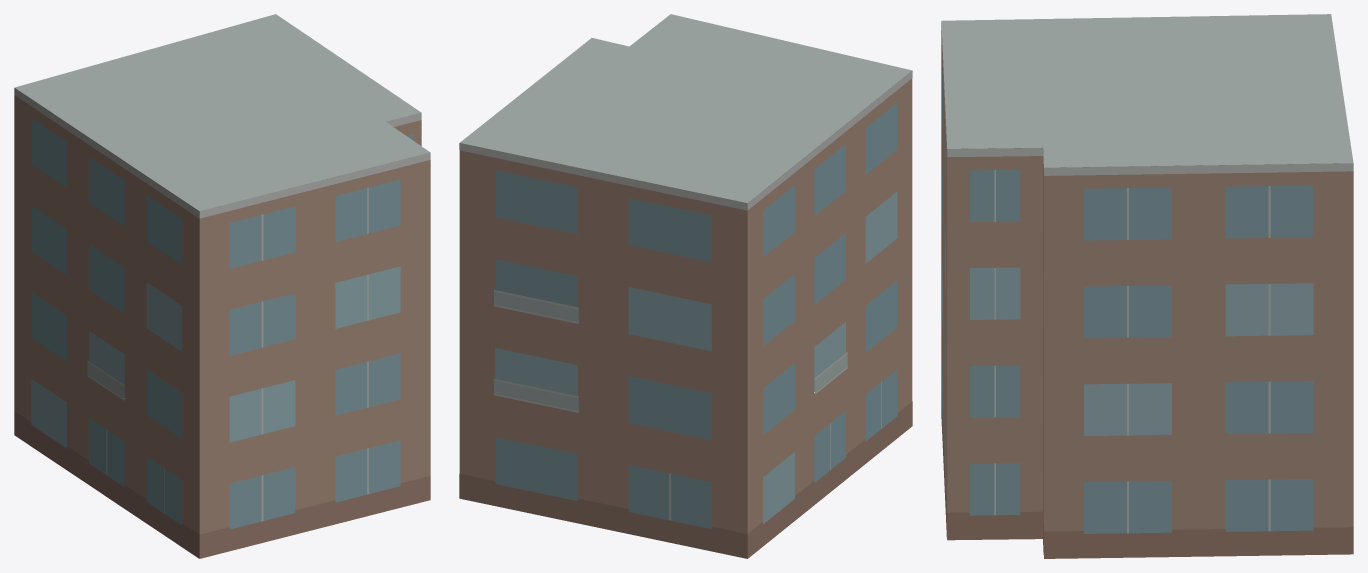
The model's file is survey-upis-32672369.glb.
The picture shows the model from 3 angles, left to right: view 1: azimuth 30°, elevation 25°; view 2: azimuth 150°, elevation 25°; view 3: azimuth 270°, elevation 25°; orthographic projection. The views are drawn at different scales.
Parts seen in each view (by area): view 1: survey-upis-32672369.tmp; view 2: survey-upis-32672369.tmp; view 3: survey-upis-32672369.tmp.
Boxes of the visible parts, left/top/right/bottom form: survey-upis-32672369.tmp: left=14, top=14, right=430, bottom=558; survey-upis-32672369.tmp: left=459, top=14, right=912, bottom=558; survey-upis-32672369.tmp: left=941, top=14, right=1353, bottom=558.
Size of the model in its own units: 9.78 by 11.6 by 11.09.
